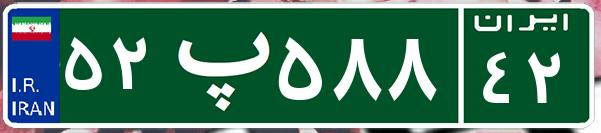2: (110, 28, 158, 105), (525, 38, 570, 115)
4: (475, 38, 525, 113)
5: (273, 28, 330, 110), (57, 26, 110, 107)
8: (385, 28, 445, 110), (330, 28, 385, 110)
پ: (158, 15, 273, 115)
